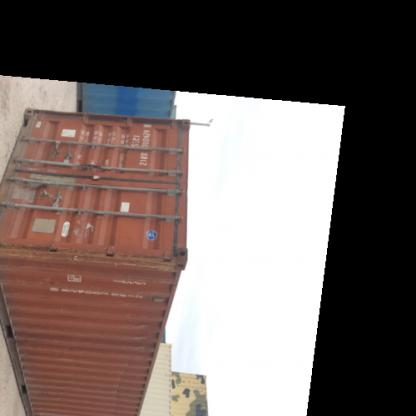Damage: (5, 167, 76, 202), (104, 250, 178, 269), (110, 358, 138, 406), (1, 243, 70, 259), (17, 324, 37, 372), (70, 210, 102, 240), (131, 318, 153, 352), (56, 298, 74, 322)
